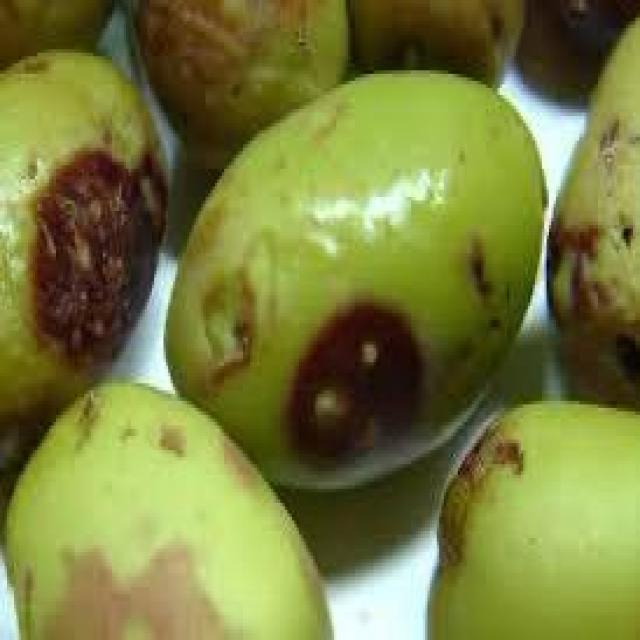Olive Fruit Fly: (168, 70, 544, 478), (7, 383, 332, 636), (0, 49, 166, 418), (430, 401, 638, 636), (547, 18, 638, 408), (138, 0, 336, 172)
